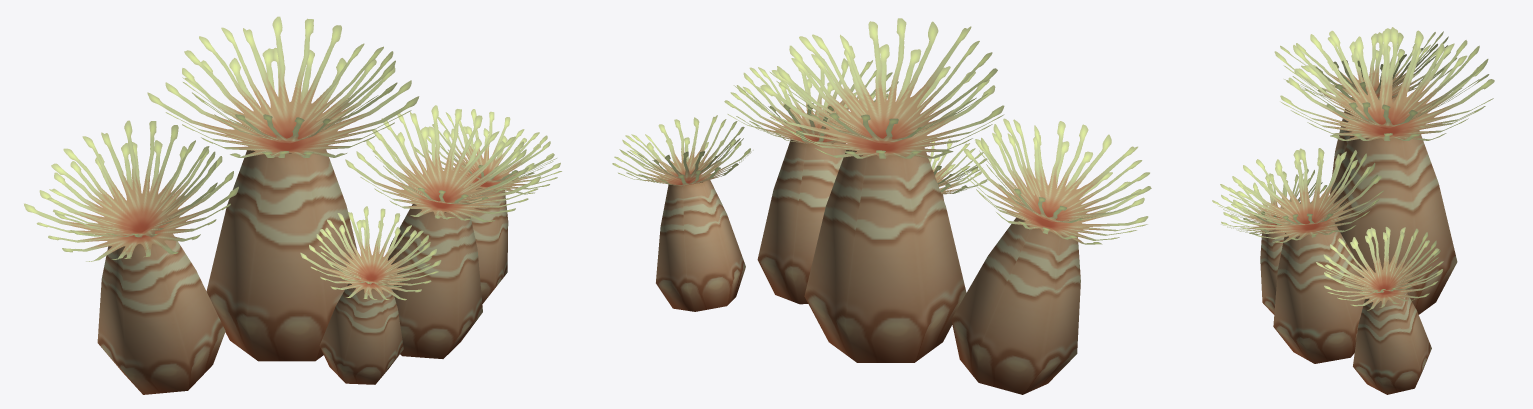
The model's file is Coral_33_Group.FBX.
3 renders of one model, left to right at view 1: azimuth 30°, elevation 25°; view 2: azimuth 150°, elevation 25°; view 3: azimuth 270°, elevation 25°, orthographic. The views are drawn at different scales.
Parts seen in each view (by area): view 1: Coral_33_Group; view 2: Coral_33_Group; view 3: Coral_33_Group.
Part boxes in pixels (x1=…): Coral_33_Group: x1=24, y1=16, x2=561, y2=394; Coral_33_Group: x1=612, y1=18, x2=1151, y2=394; Coral_33_Group: x1=1212, y1=27, x2=1494, y2=394.
Size of the model in its own units: 43.41 by 22.42 by 25.34.
